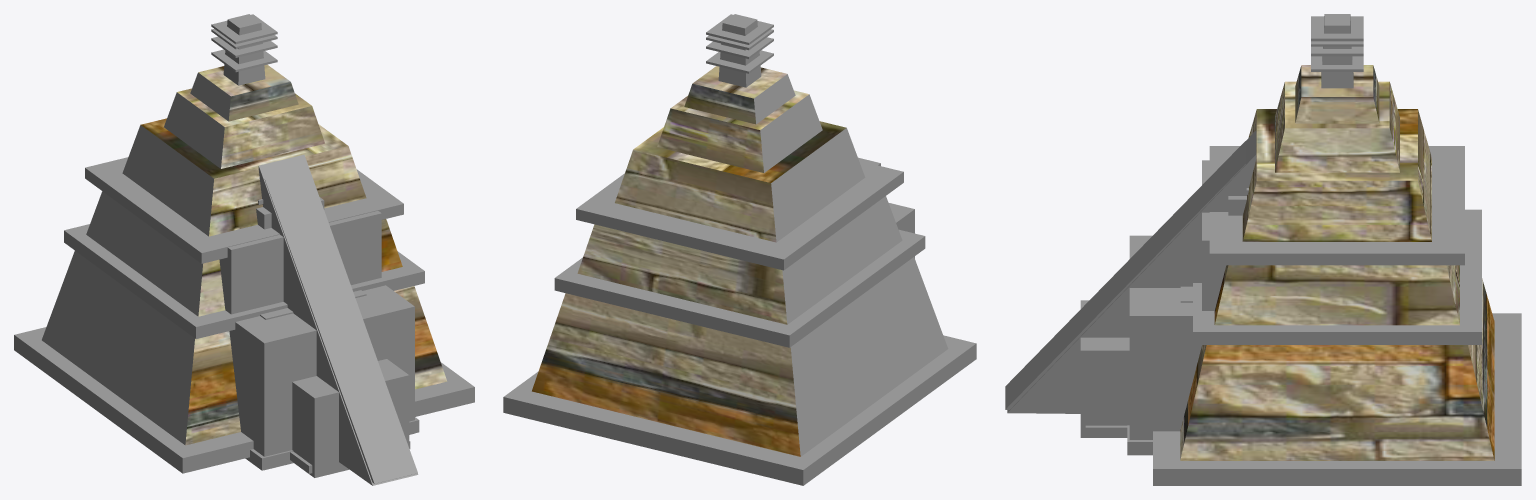
The model's file is Pyramide3.obj.
The picture shows the model from 3 angles, left to right: view 1: azimuth 30°, elevation 25°; view 2: azimuth 150°, elevation 25°; view 3: azimuth 270°, elevation 25°; orthographic projection. The views are drawn at different scales.
Parts seen in each view (by area): view 1: Cube.026_Cube.006; view 2: Cube.026_Cube.006; view 3: Cube.026_Cube.006.
Part boxes in pixels (left/top/right/bottom): Cube.026_Cube.006: left=14, top=14, right=474, bottom=485; Cube.026_Cube.006: left=503, top=14, right=976, bottom=485; Cube.026_Cube.006: left=1005, top=14, right=1521, bottom=485.
Size of the model in its own units: 8.35 by 9.87 by 11.69.
Materials: 20 (5 with a texture image).
